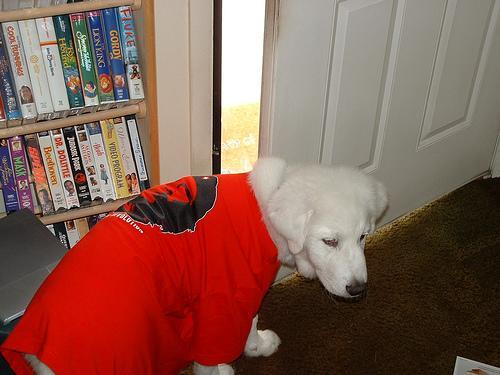Great_Pyrenees: (17, 153, 380, 374)
